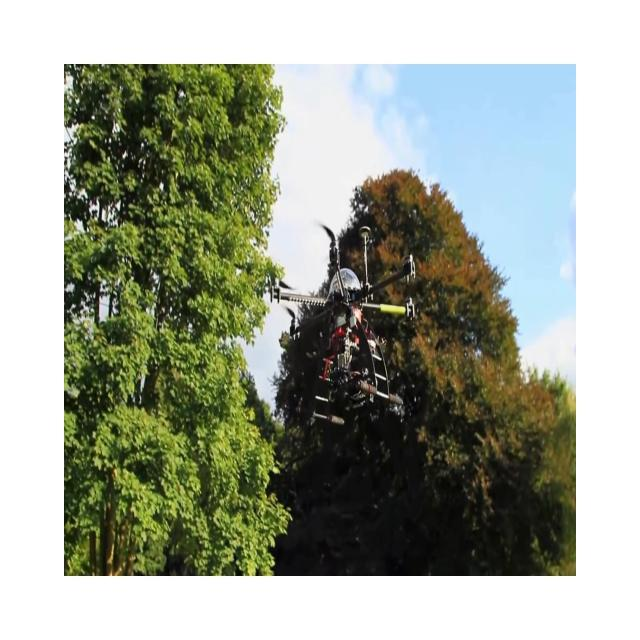drone: (263, 221, 417, 427)
